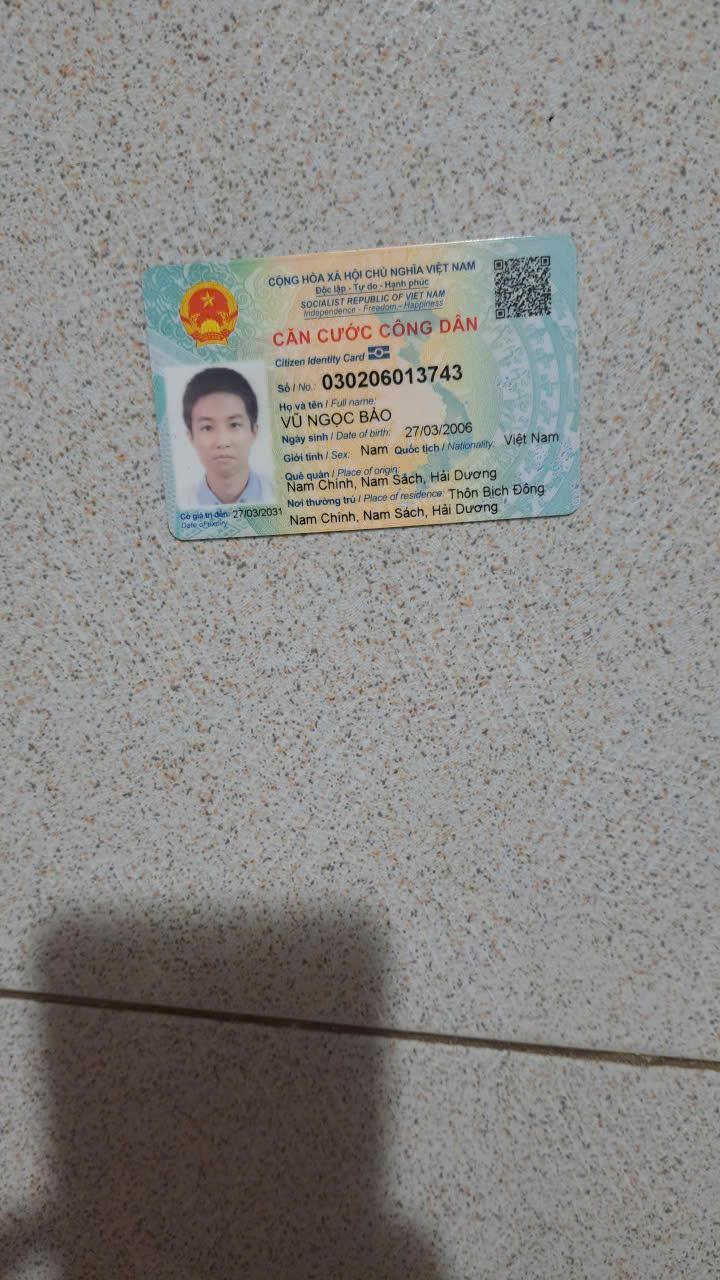cccd: (118, 215, 600, 548)
